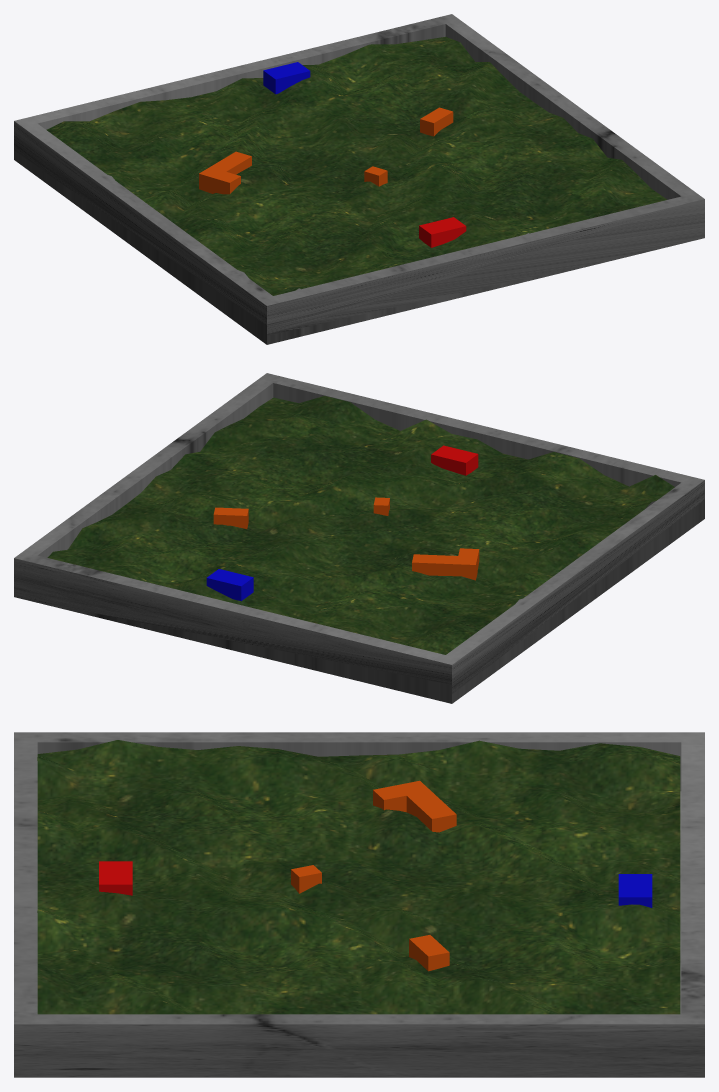
Rendered from MapAR.obj.
3 renders of one model, top to bottom at view 1: azimuth 30°, elevation 25°; view 2: azimuth 150°, elevation 25°; view 3: azimuth 270°, elevation 25°, orthographic. The views are drawn at different scales.
Parts seen in each view (by area): view 1: Cube.001_Cube.002; view 2: Cube.001_Cube.002; view 3: Cube.001_Cube.002.
Part boxes in pixels (x1=…): Cube.001_Cube.002: x1=14, y1=14, x2=704, y2=344; Cube.001_Cube.002: x1=14, y1=373, x2=704, y2=703; Cube.001_Cube.002: x1=14, y1=732, x2=704, y2=1077.
Size of the model in its own units: 1.53 by 0.158 by 1.53.
